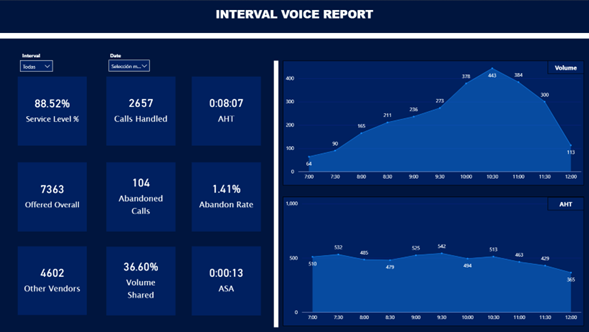

The dashboard page shown, as its layout file describes it:
{"tool":"powerbi","page":{"name":"Dashboard","canvas":[1280,720],"ordinal":0},"visuals":[{"type":"cardVisual","fields":{"Data":["Voice_LPW_LBT.%SLA"]},"box":[34.5,160.4,160.4,160.4],"z":1000},{"type":"cardVisual","fields":{"Data":["Sum(Voice_LPW_LBT.BPO Calls)"]},"box":[226.8,160.4,160.4,160.4],"z":2000},{"type":"cardVisual","fields":{"Data":["Sum(Voice_LPW_LBT.CALLS)"]},"box":[34.5,346.7,160.4,160.4],"z":3000},{"type":"cardVisual","fields":{"Data":["Sum(Voice_LPW_LBT.Real Abandoned)"]},"box":[226.8,346.7,160.4,160.4],"z":4000},{"type":"textbox","box":[226.6,7.8,826.7,42.8],"z":5000},{"type":"lineChart","title":"Volume","fields":{"Category":["Voice_LPW_LBT.HALF HOUR"],"Y":["Sum(Voice_LPW_LBT.BPO Calls)"]},"box":[615,131,654,271],"z":6000},{"type":"shape","box":[0,71.1,1280,12.2],"z":7000},{"type":"cardVisual","fields":{"Data":["Voice_LPW_LBT.BPO_AHT"]},"box":[412.3,160.4,160.4,160.4],"z":10000},{"type":"cardVisual","fields":{"Data":["Voice_LPW_LBT.Abandoned Calls"]},"box":[412.3,346.7,160.4,160.4],"z":11000},{"type":"lineChart","title":"Volume","fields":{"Category":["Voice_LPW_LBT.HALF HOUR"],"Y":["Voice_LPW_LBT.BPO AHTV"]},"box":[615,426,654,281],"z":12000},{"type":"slicer","fields":{"Values":["Voice_LPW_LBT.HALF HOUR"]},"box":[34.5,119.9,90.6,40.5],"z":13000},{"type":"slicer","fields":{"Values":["Voice_LPW_LBT.DATE"]},"box":[226.8,119,108.7,41.4],"z":14000},{"type":"shape","box":[595.6,131.1,10,578.9],"z":15000},{"type":"textbox","box":[1190,131,79,29],"z":16000},{"type":"textbox","box":[1190,427,79,29],"z":17000},{"type":"cardVisual","fields":{"Data":["Sum(Voice_LPW_LBT.Lakeland Calls)"]},"box":[34.5,528.7,160.4,159.6],"z":18000},{"type":"cardVisual","fields":{"Data":["Voice_LPW_LBT.Volume Shared"]},"box":[226.8,529.6,160.4,159.6],"z":19000},{"type":"cardVisual","fields":{"Data":["Voice_LPW_LBT.ASA_BPO"]},"box":[412.3,528.7,160.4,160.4],"z":20000},{"type":"textbox","box":[212.2,105.2,79.4,29.3],"z":23000},{"type":"textbox","box":[28.5,105.2,79.4,29.3],"z":24000}]}

Visuals, with their boxes in screenshot pixels (x1, y1, x2, y2), scaled from the page's 1280x720 canvas onto the 589x332 screenshot:
cardVisual - Voice_LPW_LBT.%SLA: locate(16, 74, 90, 148)
cardVisual - Sum(Voice_LPW_LBT.BPO Calls): locate(104, 74, 178, 148)
cardVisual - Sum(Voice_LPW_LBT.CALLS): locate(16, 160, 90, 234)
cardVisual - Sum(Voice_LPW_LBT.Real Abandoned): locate(104, 160, 178, 234)
textbox: locate(104, 4, 485, 23)
"Volume" lineChart: locate(283, 60, 584, 185)
shape: locate(0, 33, 588, 38)
cardVisual - Voice_LPW_LBT.BPO_AHT: locate(190, 74, 264, 148)
cardVisual - Voice_LPW_LBT.Abandoned Calls: locate(190, 160, 264, 234)
"Volume" lineChart: locate(283, 196, 584, 326)
slicer - Voice_LPW_LBT.HALF HOUR: locate(16, 55, 58, 74)
slicer - Voice_LPW_LBT.DATE: locate(104, 55, 154, 74)
shape: locate(274, 60, 279, 327)
textbox: locate(548, 60, 584, 74)
textbox: locate(548, 197, 584, 210)
cardVisual - Sum(Voice_LPW_LBT.Lakeland Calls): locate(16, 244, 90, 317)
cardVisual - Voice_LPW_LBT.Volume Shared: locate(104, 244, 178, 318)
cardVisual - Voice_LPW_LBT.ASA_BPO: locate(190, 244, 264, 318)
textbox: locate(98, 49, 134, 62)
textbox: locate(13, 49, 50, 62)
